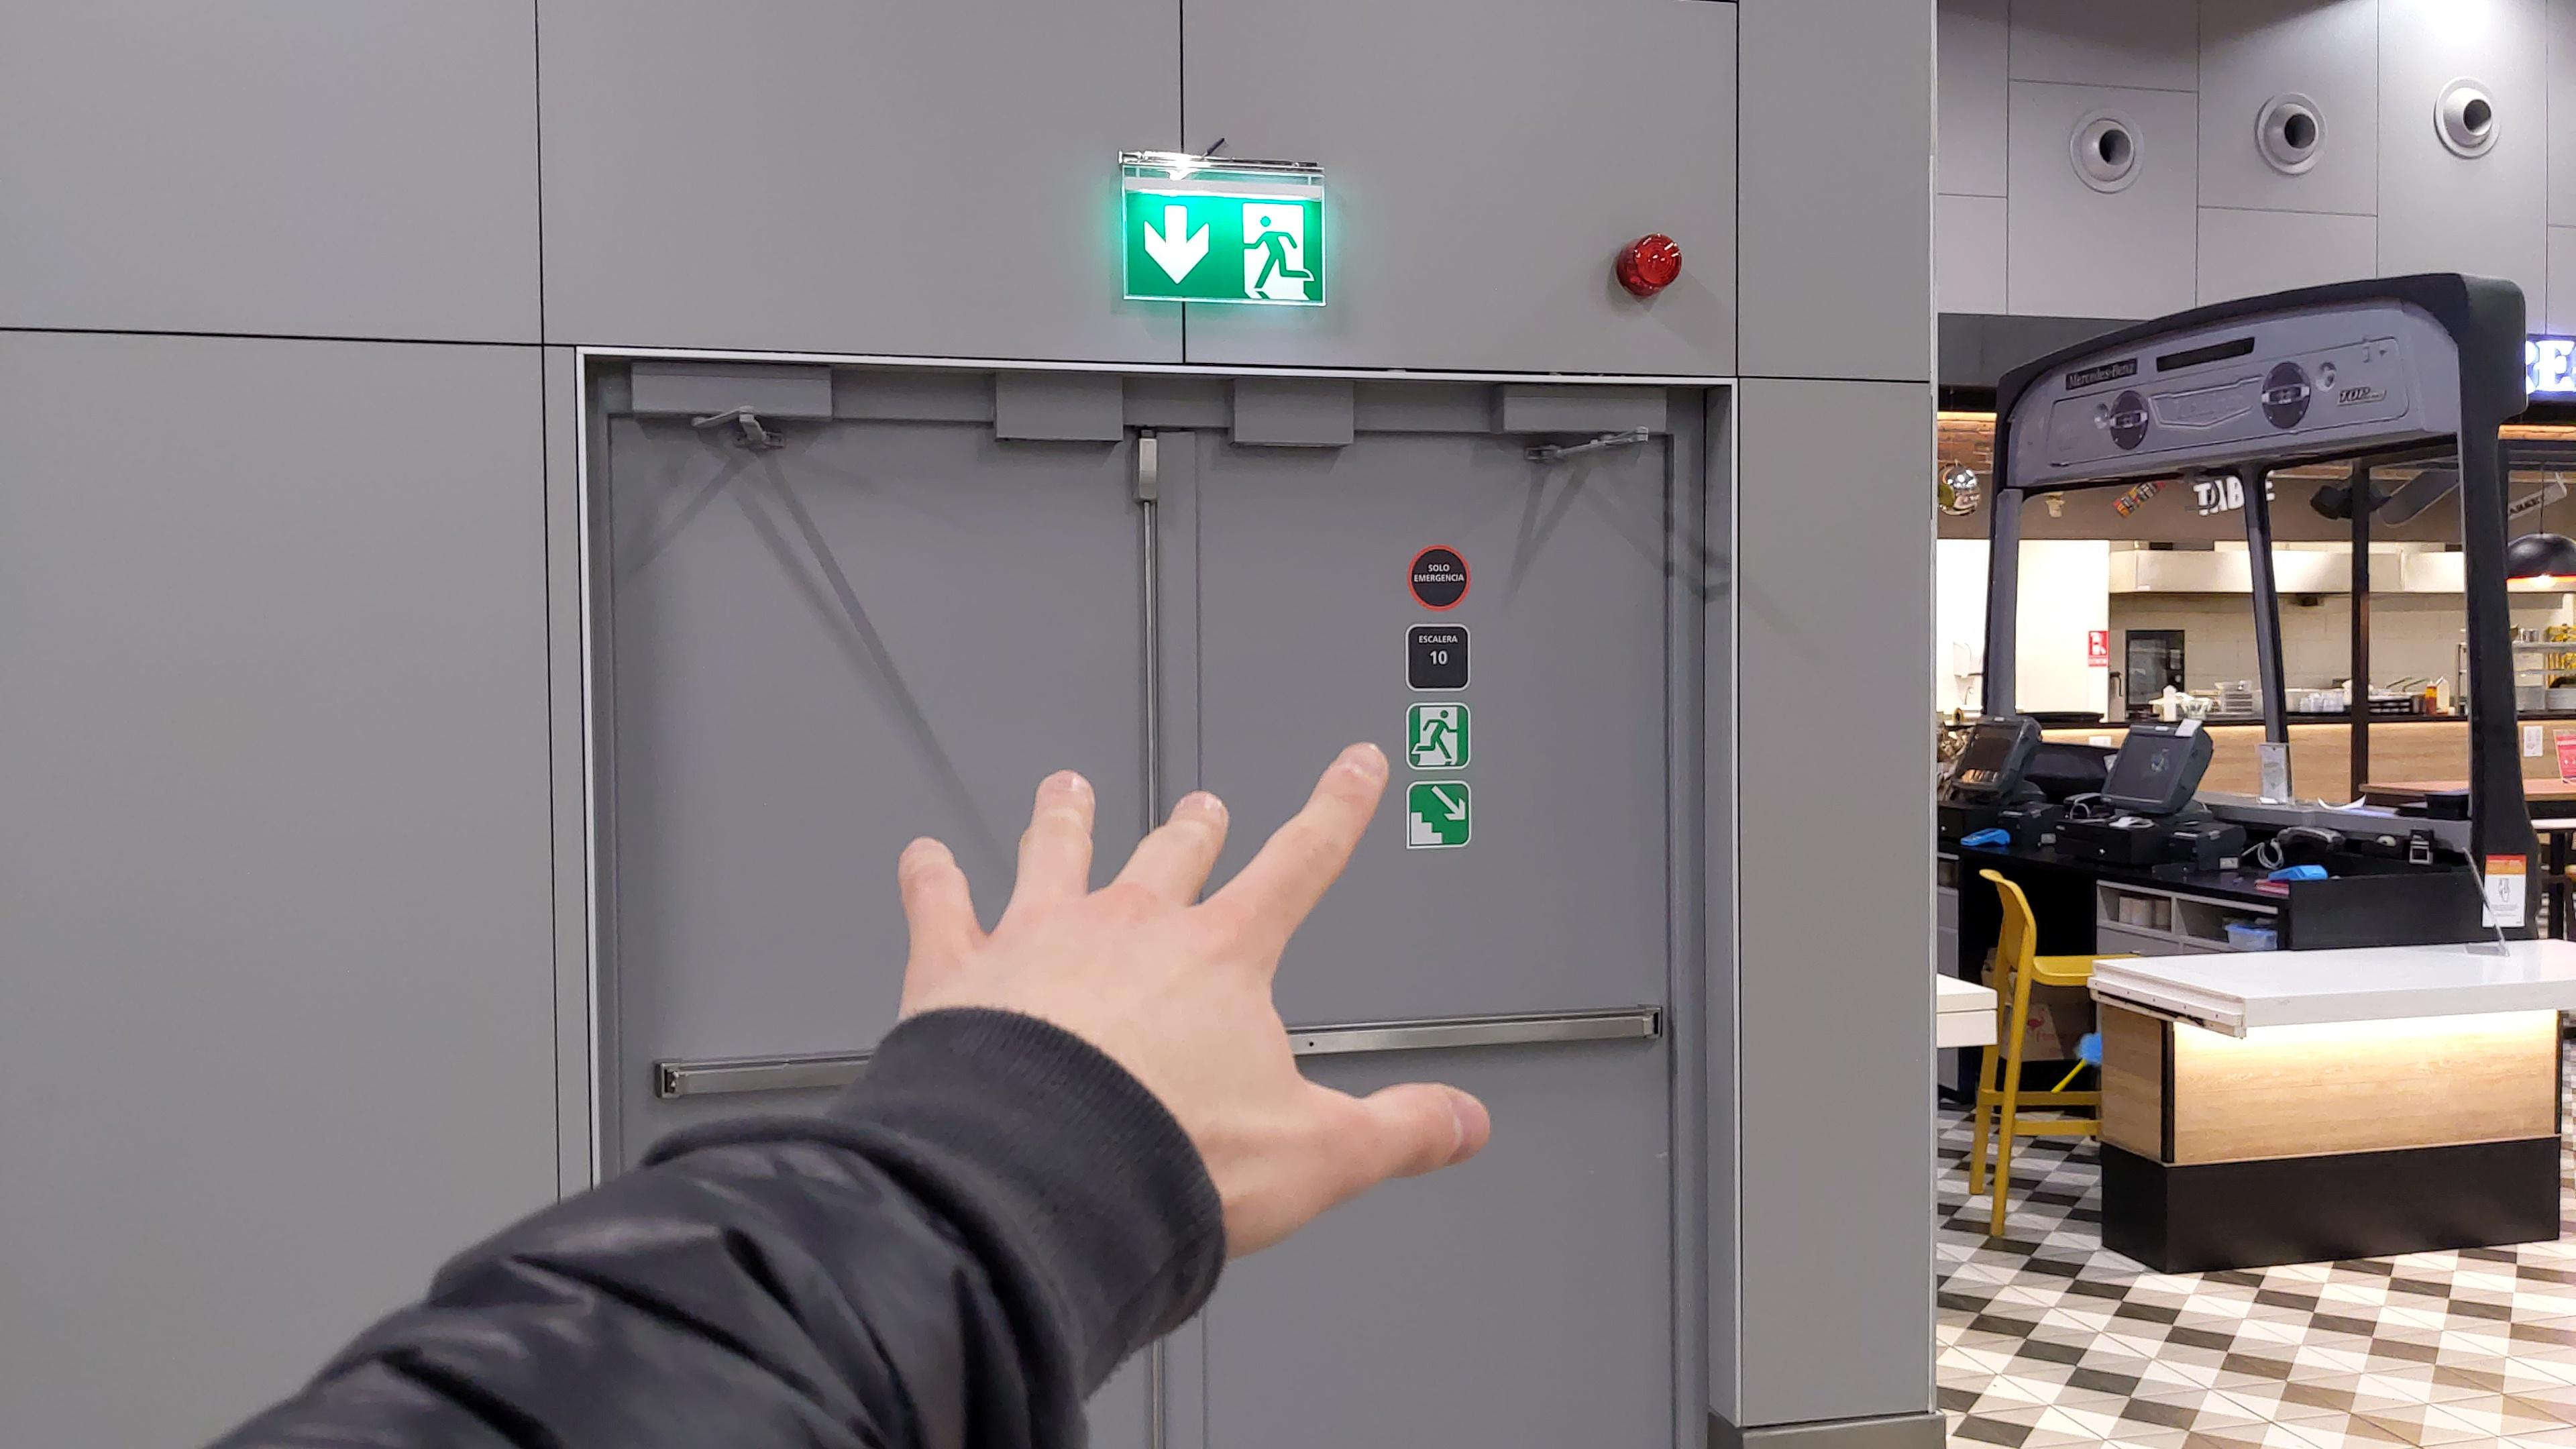emergency down arrow: (1141, 202, 1214, 288)
emergency exit: (1235, 200, 1316, 306), (1412, 704, 1465, 768)
